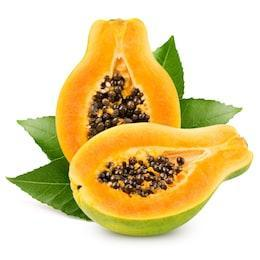papaya: (69, 124, 254, 236), (57, 18, 181, 164)
